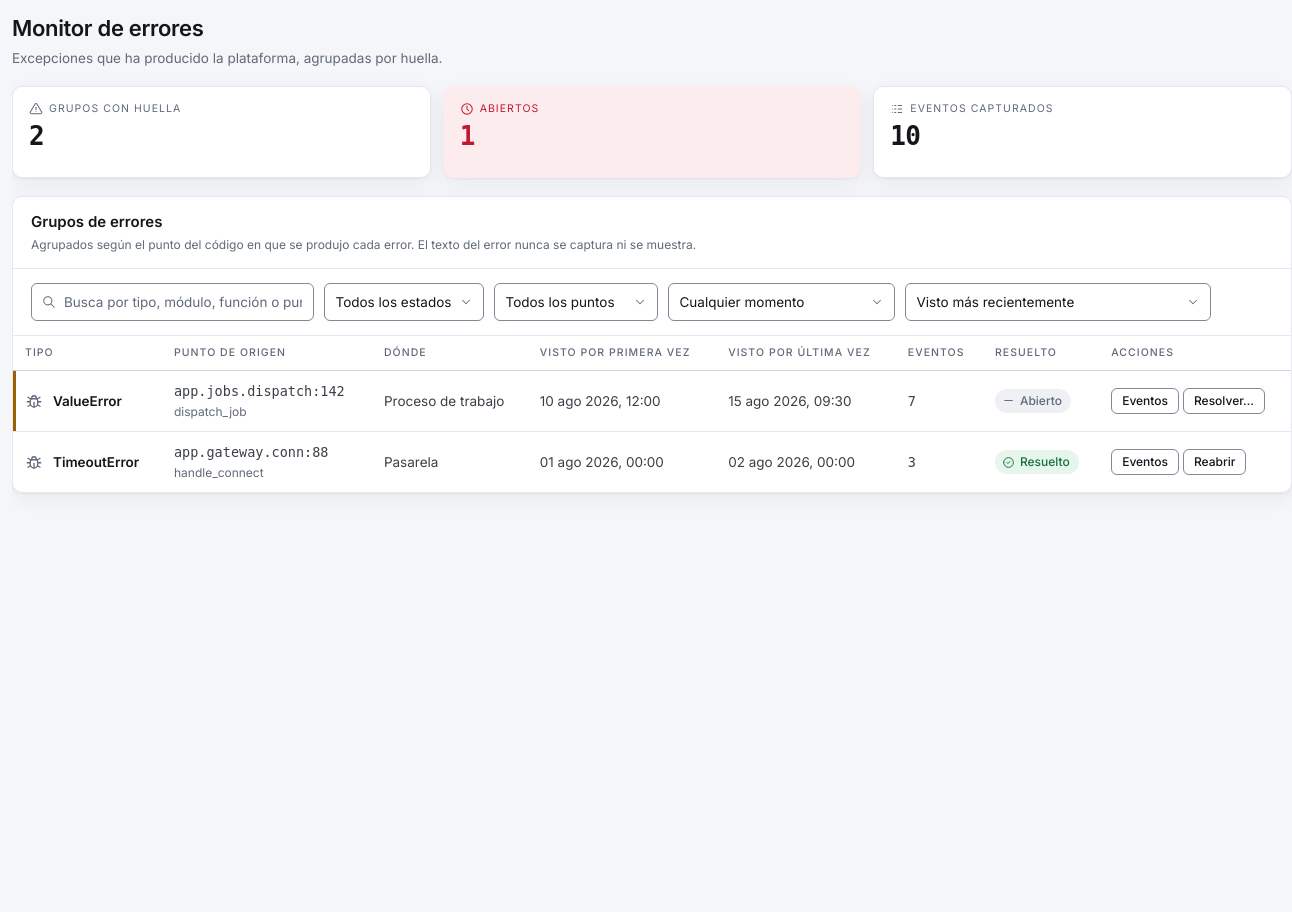
the error monitor in Spanish › shows the events of a group, saying why a correlation id is blank
The width and height of the screenshot is (1292, 912).
Click the button with aria-label "Eventos de ValueError": (1145, 401) x1=1111 y1=388 x2=1179 y2=414
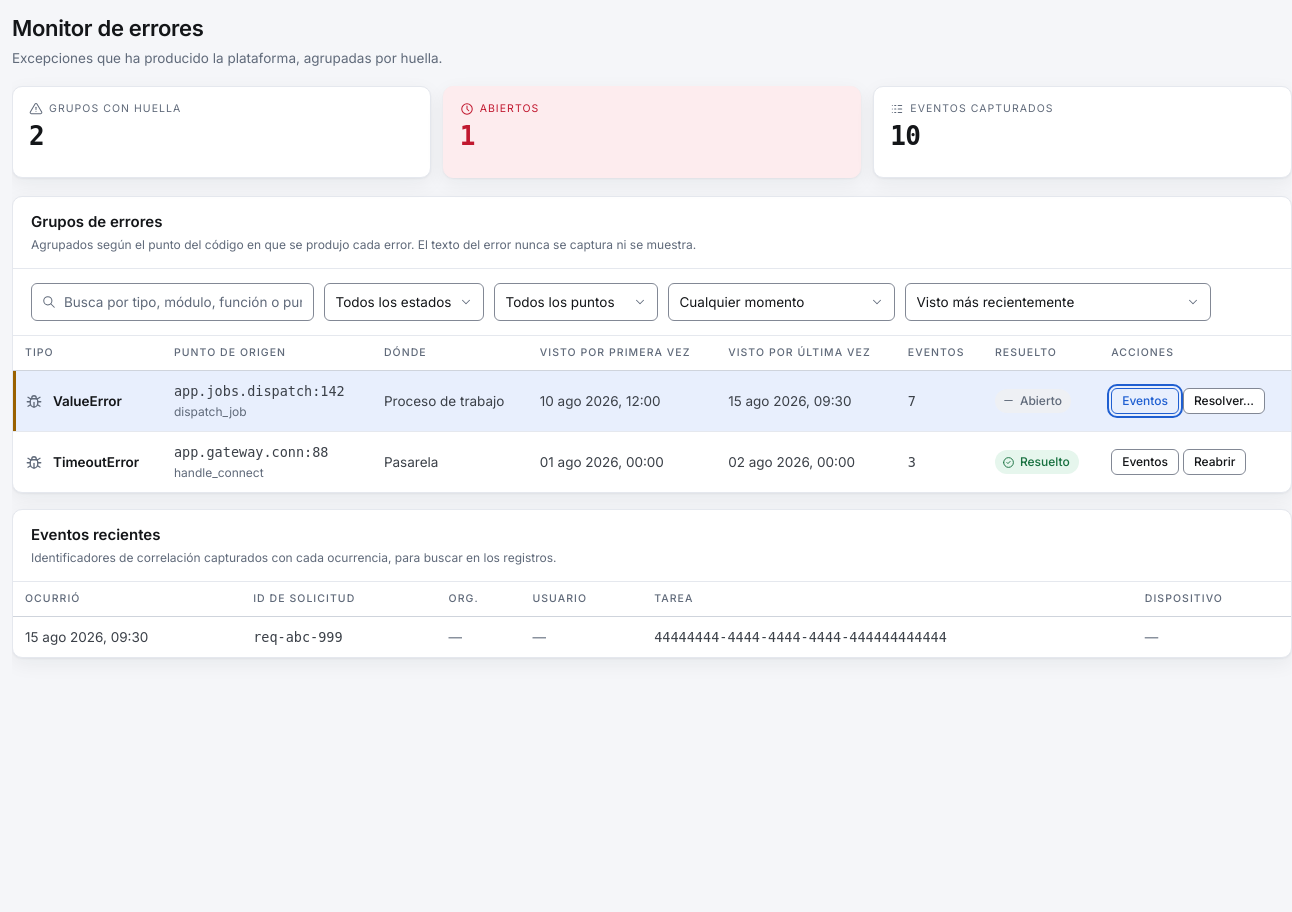
Expected: the heading "Eventos recientes" is shown, x1=31 y1=525 x2=160 y2=544
Expected: the text "req-abc-999" is shown, x1=253 y1=628 x2=343 y2=644
Expected: the column heading "ID de solicitud" is shown, x1=241 y1=582 x2=437 y2=616
